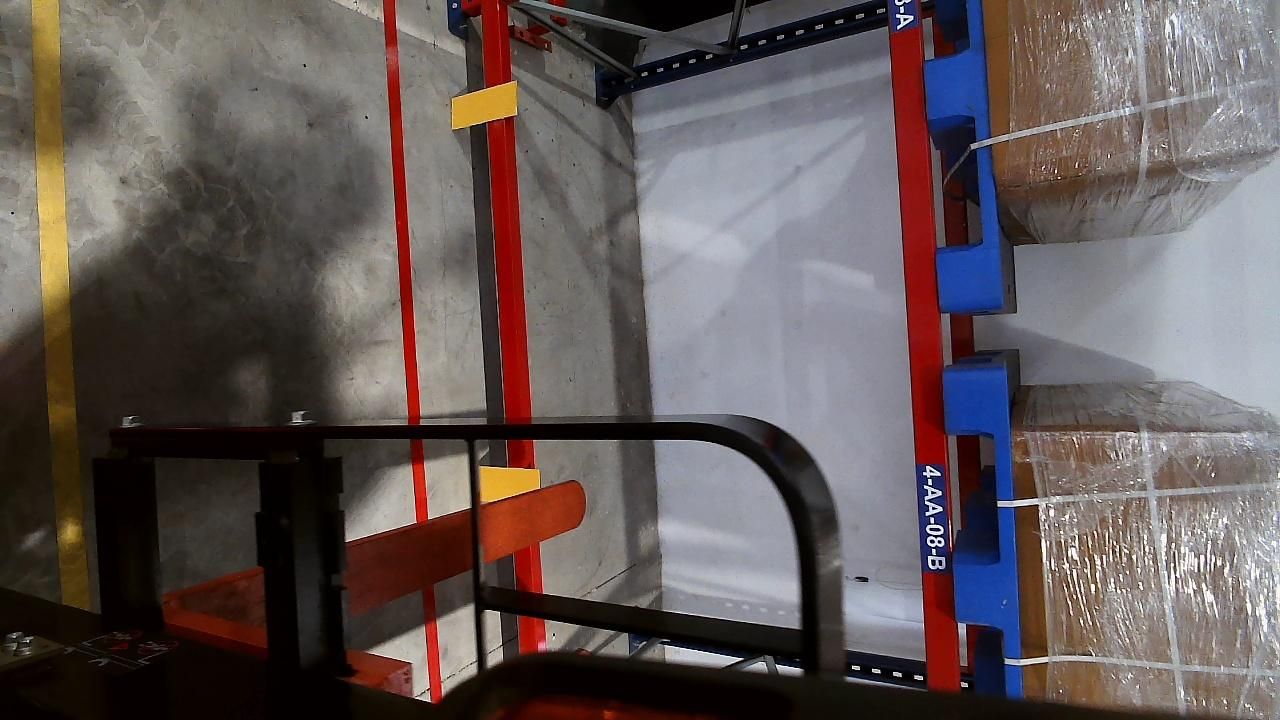h_rack: (461, 8, 551, 647), (879, 0, 955, 694)
orange_strip: (450, 82, 519, 129), (478, 465, 541, 501)
red_line: (380, 0, 451, 695)
small_pallet: (916, 0, 1007, 305), (943, 368, 1025, 679)
yellow_line: (10, 1, 96, 610)
